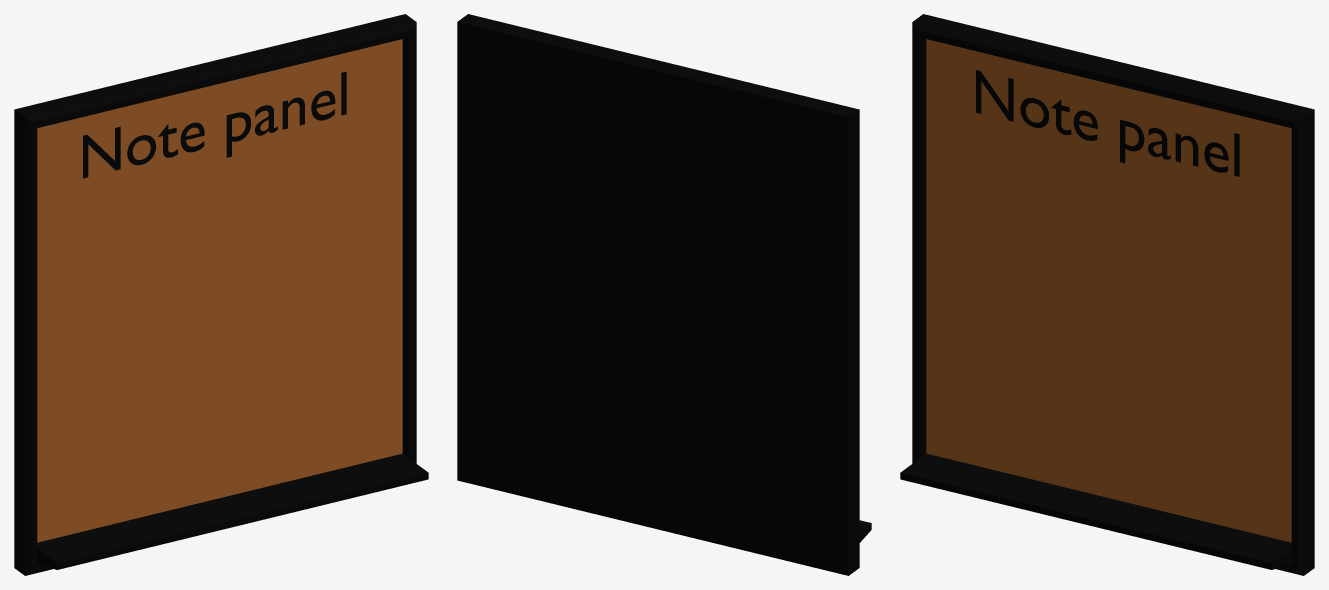
File: Note Panel.fbx
3 views of the same model, side by side, from view 1: azimuth 30°, elevation 25°; view 2: azimuth 150°, elevation 25°; view 3: azimuth 330°, elevation 25° (orthographic).
Parts seen in each view (by area): view 1: Panel; view 2: Panel; view 3: Panel.
Boxes of the visible parts, x1,y1,x2,y2 form: Panel: [14, 14, 428, 575]; Panel: [457, 14, 871, 575]; Panel: [900, 14, 1314, 575].
Size of the model in its own units: 252 by 282 by 36.74.
